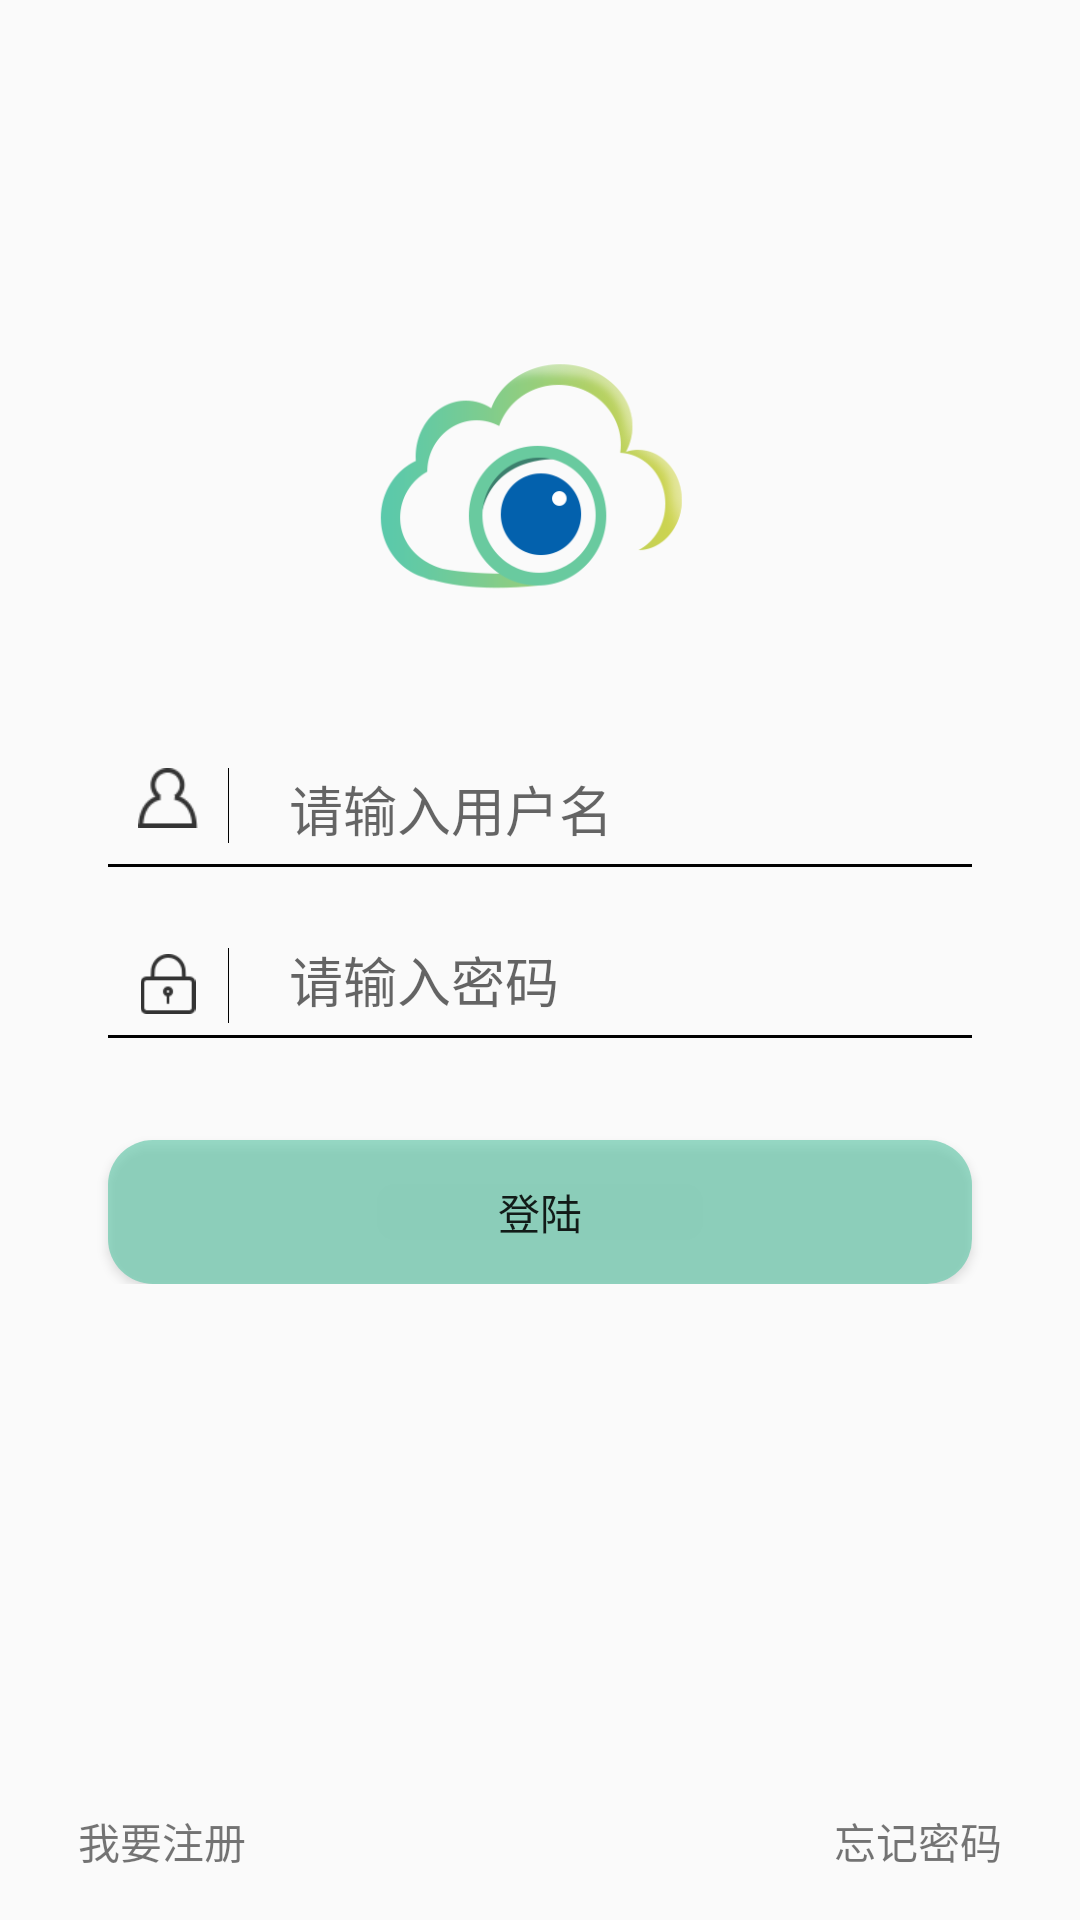

Icons on this 1080px x 1920px Android screen, each with the point to tap as [x,y]:
user: [168,798]
